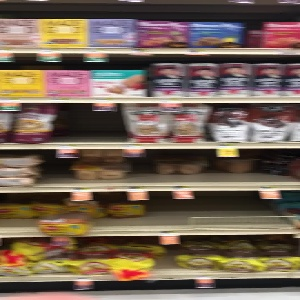void: (98, 188, 300, 229), (131, 148, 300, 189), (54, 101, 125, 145), (1, 191, 42, 236), (34, 143, 74, 185)
